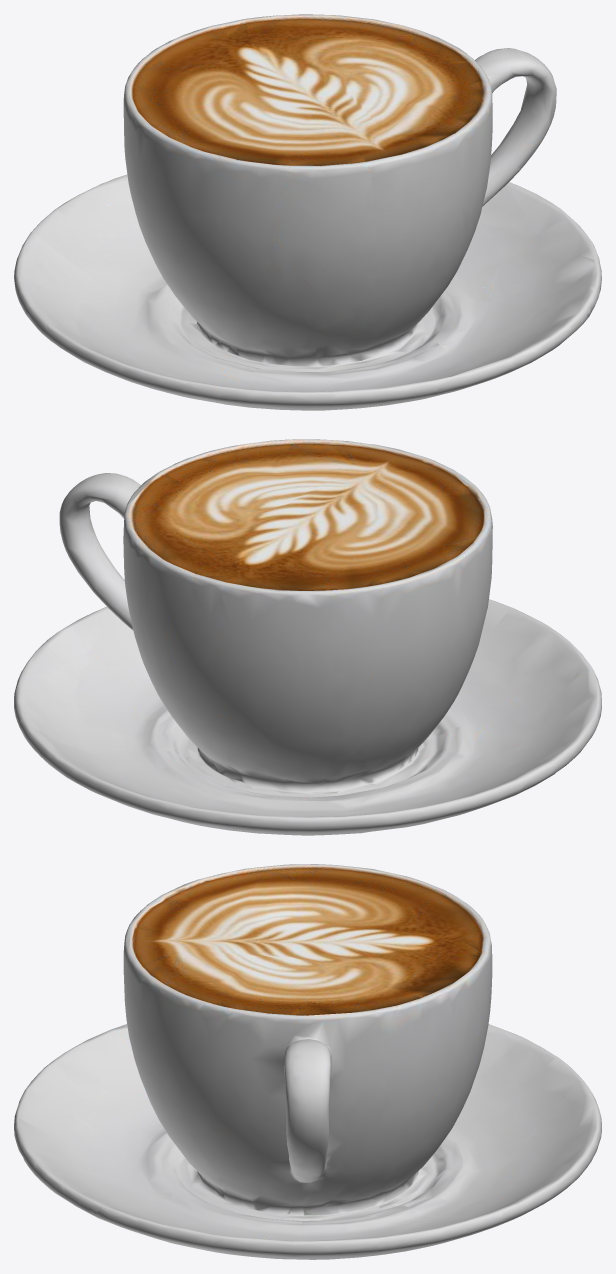
The model's file is cappuccino.glb.
The picture shows the model from 3 angles, top to bottom: view 1: azimuth 30°, elevation 25°; view 2: azimuth 150°, elevation 25°; view 3: azimuth 270°, elevation 25°; orthographic projection.
Visible parts, largest first — view 1: mesh_node; view 2: mesh_node; view 3: mesh_node.
Boxes of the visible parts, x1,y1,x2,y2 form: mesh_node: (14, 14, 601, 410); mesh_node: (14, 439, 601, 835); mesh_node: (14, 864, 601, 1259).
Size of the model in its own units: 1.9 by 0.9067 by 1.9.
Materials: 1 (1 with a texture image).
